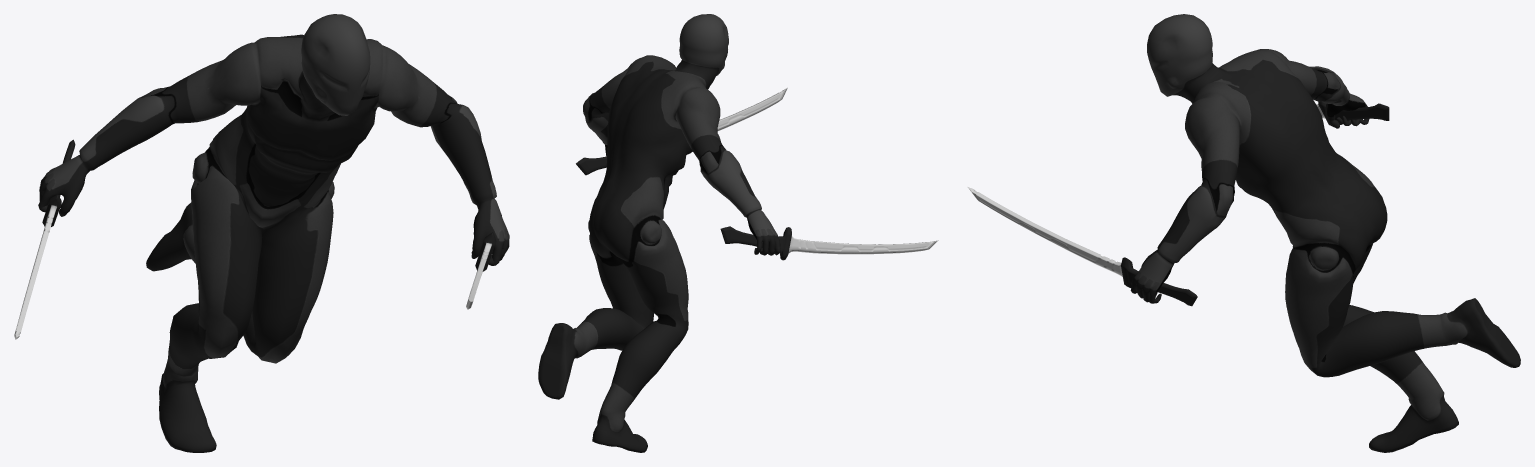
The picture shows the model from 3 angles, left to right: view 1: azimuth 30°, elevation 25°; view 2: azimuth 150°, elevation 25°; view 3: azimuth 270°, elevation 25°; orthographic projection. The views are drawn at different scales.
Visible parts, largest first — view 1: Cyborg_Ninja_Killer, Sword_l001, Sword_l; view 2: Cyborg_Ninja_Killer, Sword_l001, Sword_l; view 3: Cyborg_Ninja_Killer, Sword_l, Sword_l001.
Part boxes in pixels (x1,y1,x2,y2): Cyborg_Ninja_Killer: [38, 14, 509, 452]; Sword_l001: [14, 139, 75, 339]; Sword_l: [466, 214, 501, 309]; Cyborg_Ninja_Killer: [538, 14, 780, 452]; Sword_l001: [720, 226, 938, 260]; Sword_l: [576, 87, 787, 175]; Cyborg_Ninja_Killer: [1130, 14, 1520, 452]; Sword_l: [967, 187, 1197, 306]; Sword_l001: [1316, 101, 1389, 126].
Bounding box in the file's own units: 154 × 151 × 173.
2 materials, 2 textured.
